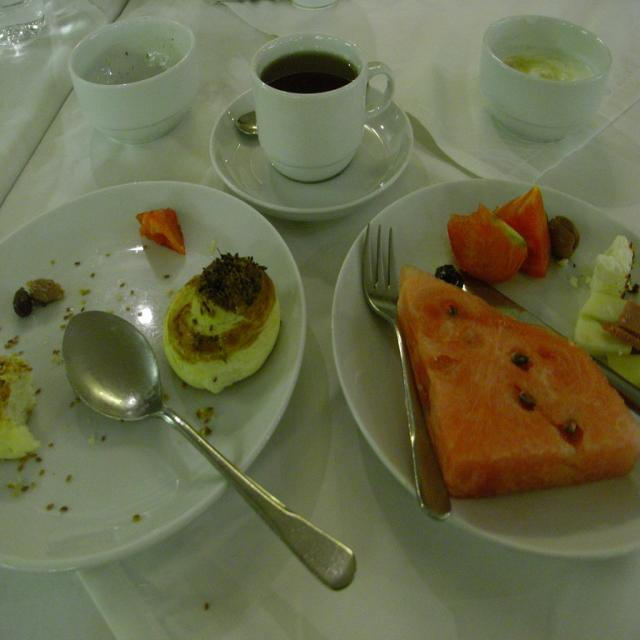Coffee: (244, 35, 386, 188)
Tea: (259, 52, 359, 93)
